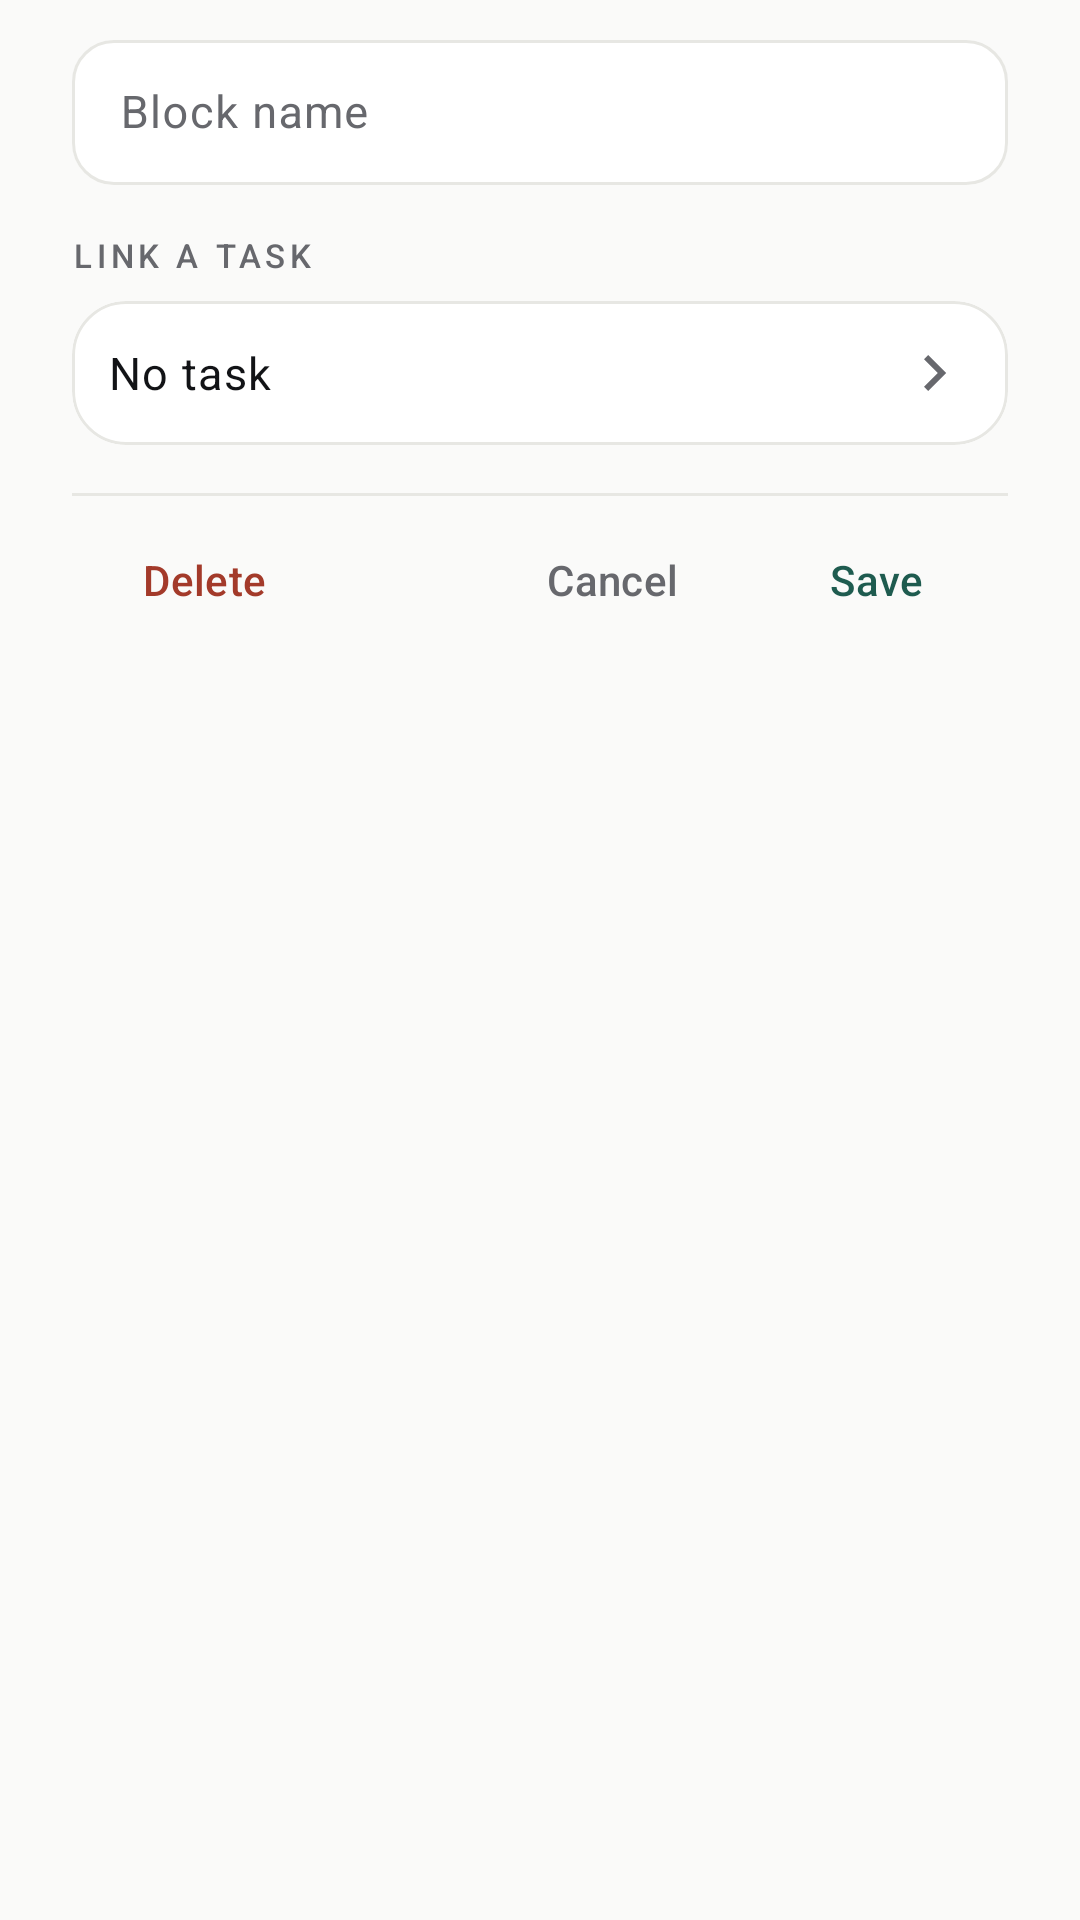

Named icons in this screenshot (1080px×1920px) and their centers, (x,y):
chevron right: (935,373)
